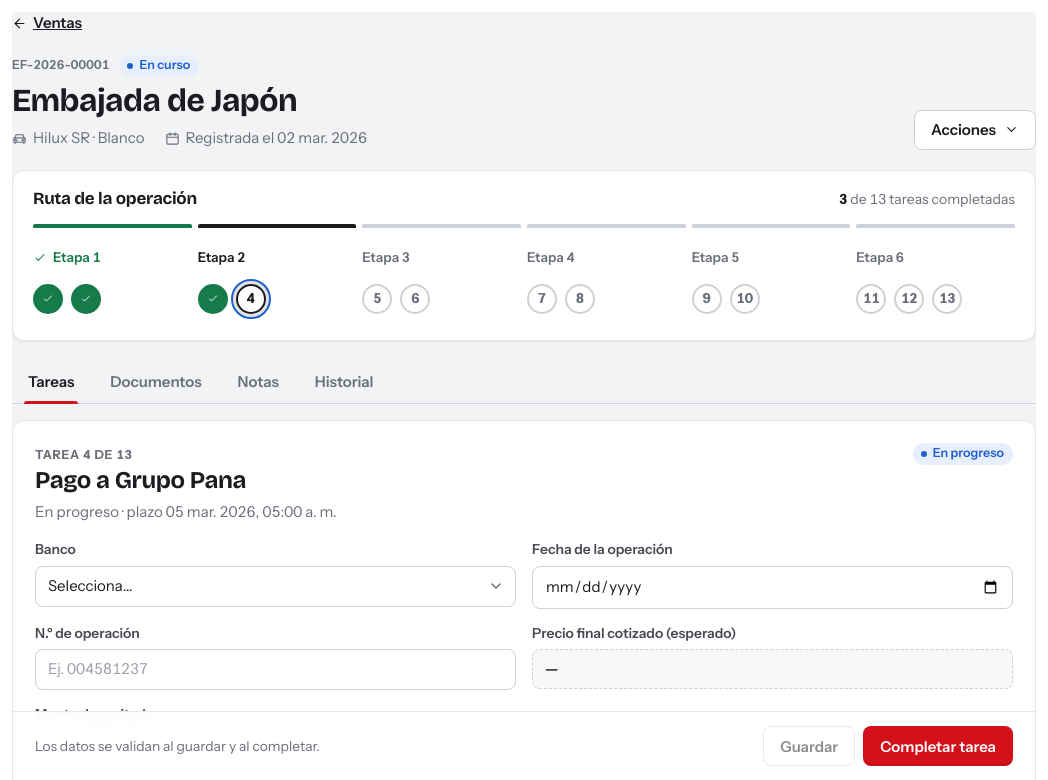
Test: actions follow the server's permissions › offers exactly the actions the person may take
The image size is (1048, 780).
Click the button with aria-label "Acciones de la venta". click: {"x": 975, "y": 130}
box: [914, 110, 1036, 150]
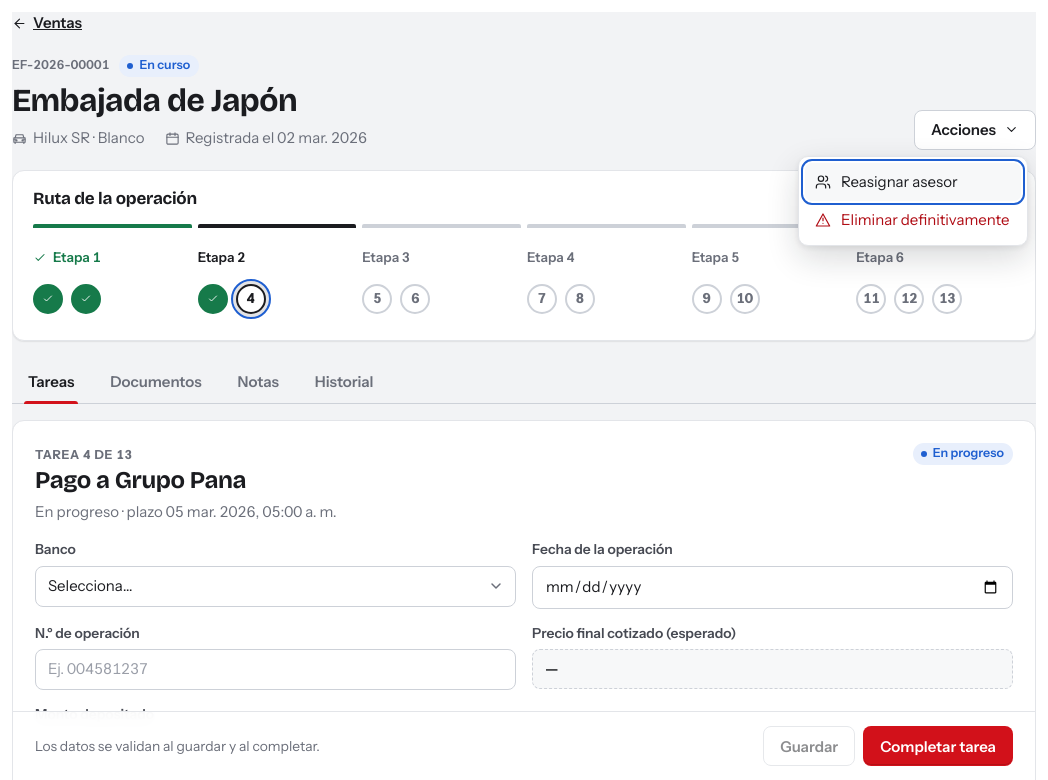
Result: the menu items read "Reasignar asesor", "Eliminar definitivamente", in this order at [805, 163, 1021, 201]; [805, 201, 1021, 239]
